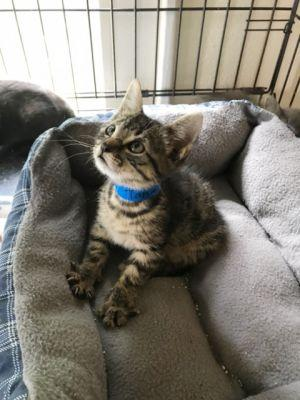bengal: (87, 70, 207, 186)
